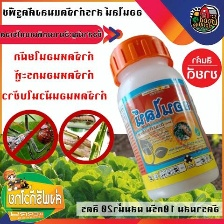insecticide: (106, 28, 220, 200)
